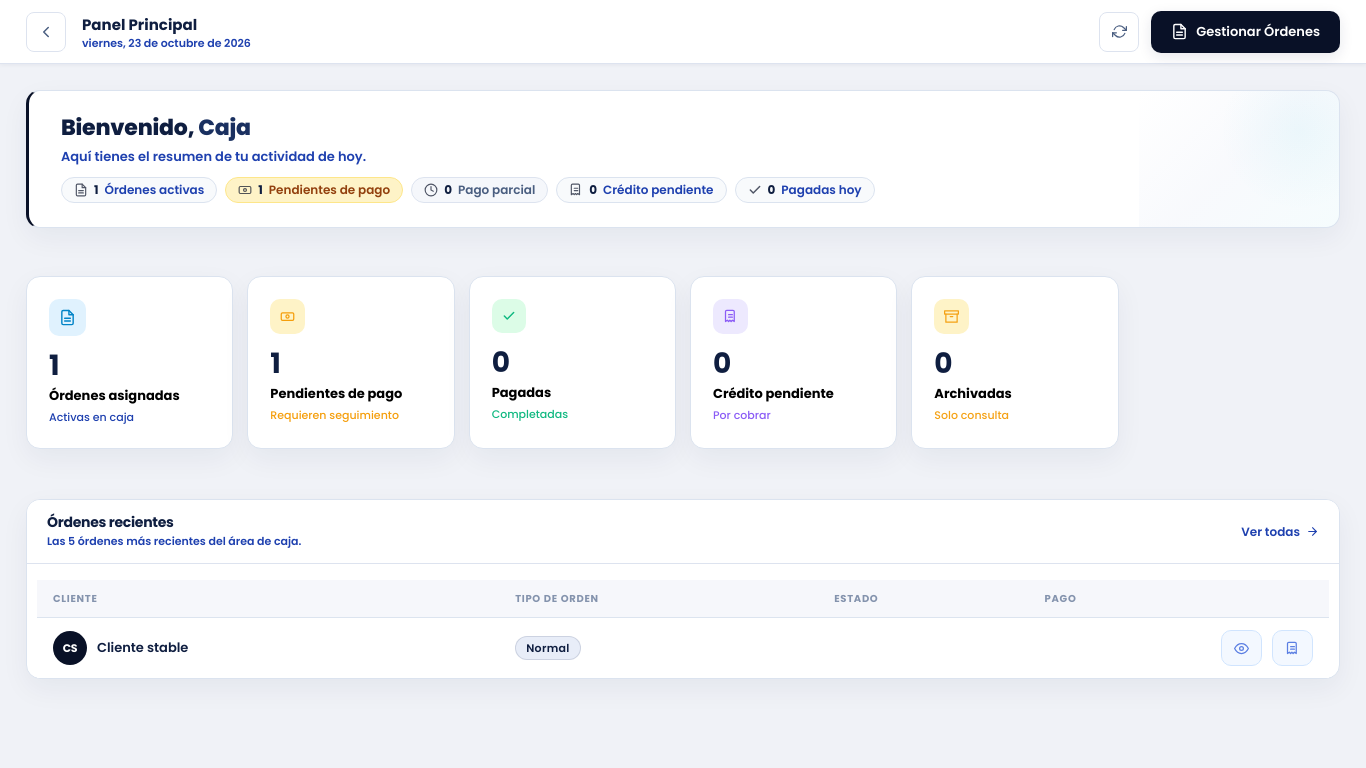
Caja order loading recovery › records silent refresh failures without showing the initial spinner or rejecting
This screenshot has width=1366, height=768.
Expected: the text "Cliente stable" is shown, [97,638,188,658]
Step 1. Click the button "Gestionar Órdenes" → {"x": 1246, "y": 32}, box [1151,10,1340,52]
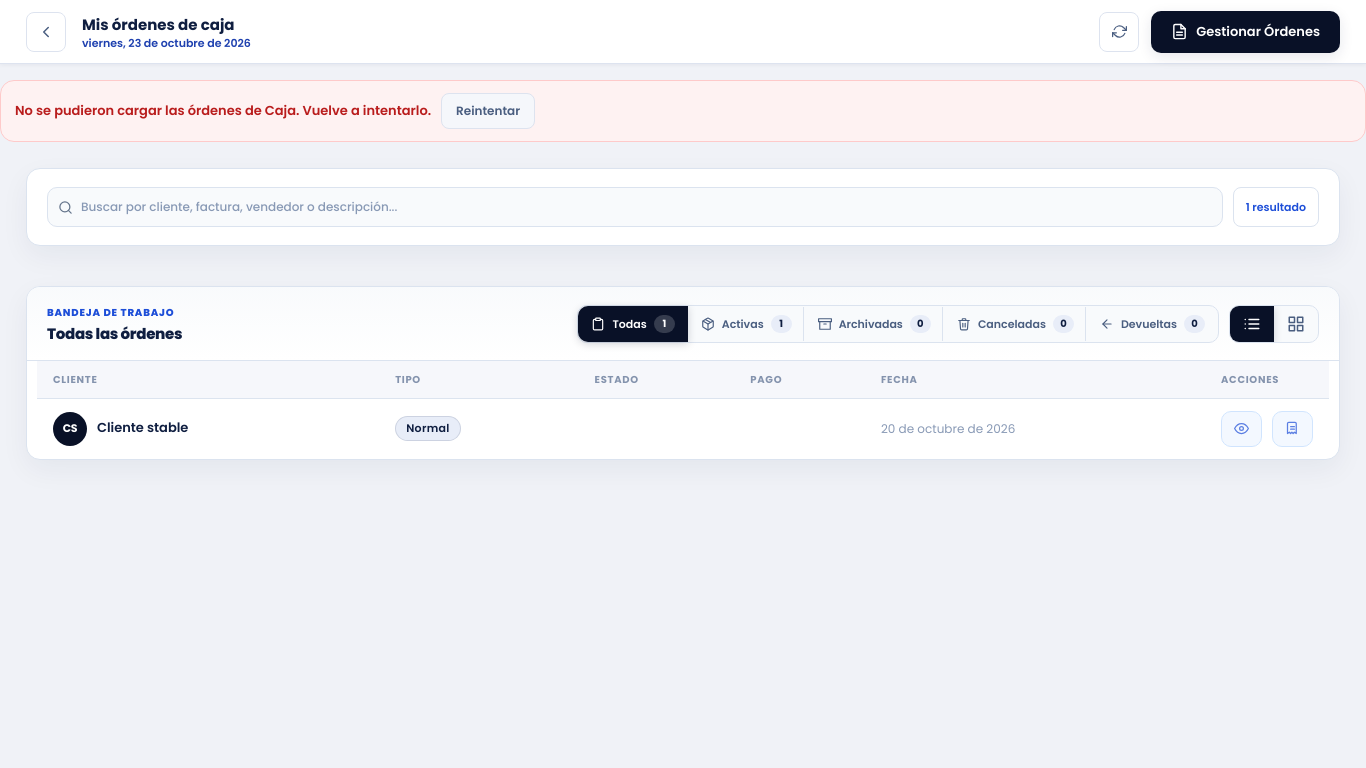
Expected: the text "Cliente stable" is shown, [97,418,188,437]
Expected: the message "No se pudieron cargar las órdenes de Caja. Vuelve a intentarlo. Reintentar" is shown, [0,80,1365,142]
